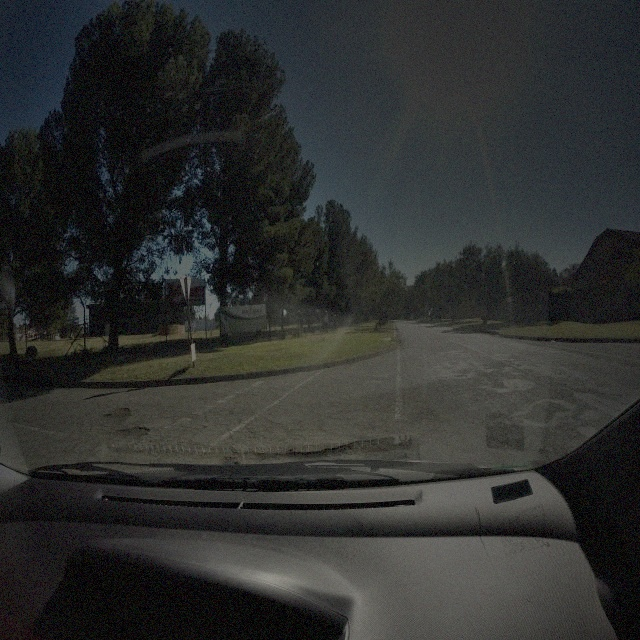pothole: (279, 439, 360, 461), (109, 426, 150, 444), (102, 405, 131, 424)
